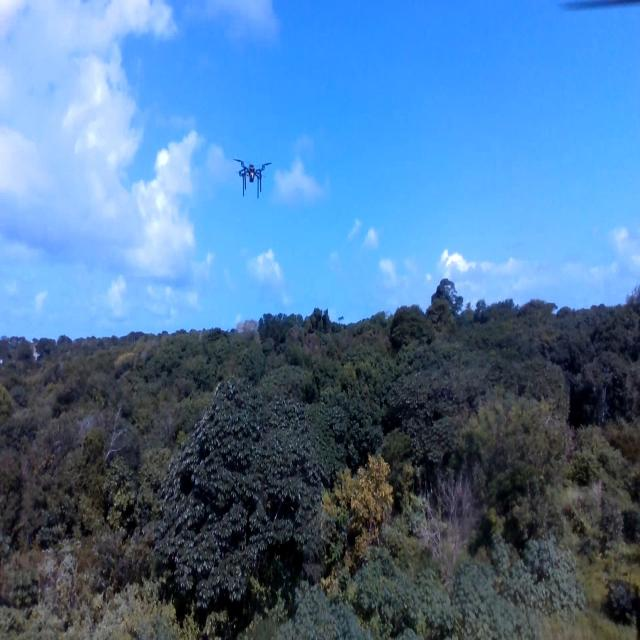-uav-: (232, 147, 274, 206)
